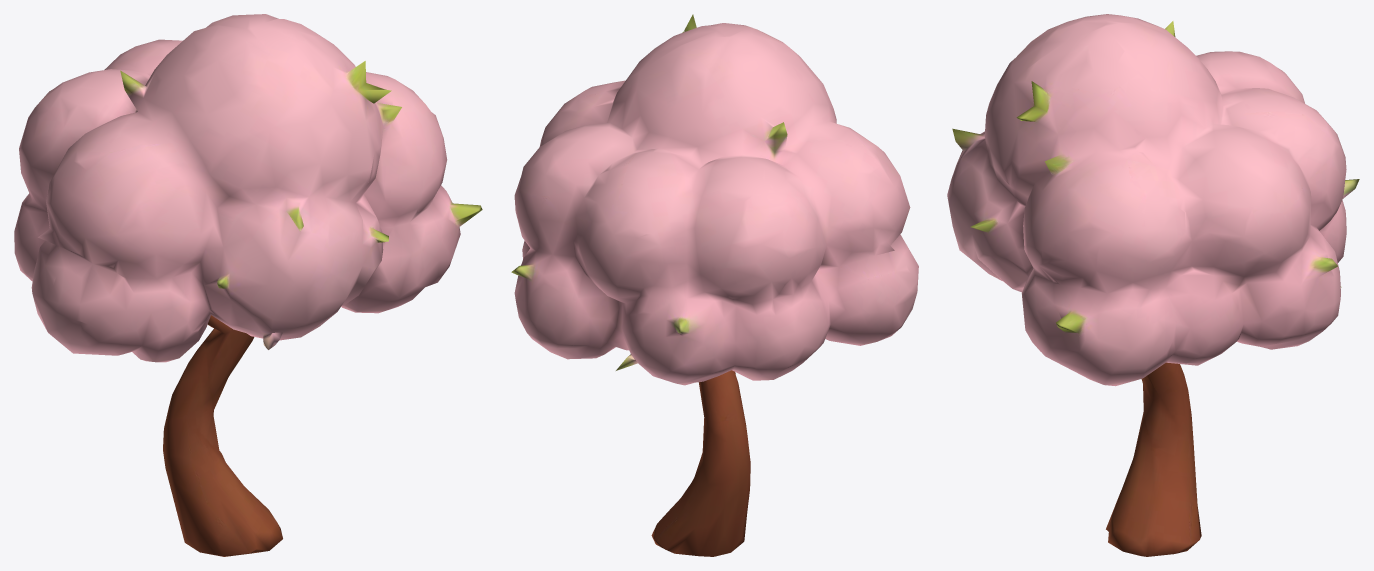
Rendered from arbre-cerisier.glb.
3 renders of one model, left to right at view 1: azimuth 30°, elevation 25°; view 2: azimuth 150°, elevation 25°; view 3: azimuth 270°, elevation 25°, orthographic. The views are drawn at different scales.
Visible parts, largest first — view 1: tripo_node_20f0f37b-6bb2-4671-8a04-affce4382c19; view 2: tripo_node_20f0f37b-6bb2-4671-8a04-affce4382c19; view 3: tripo_node_20f0f37b-6bb2-4671-8a04-affce4382c19.
Part boxes in pixels (x1,y1,x2,y2): tripo_node_20f0f37b-6bb2-4671-8a04-affce4382c19: (14,14,482,556); tripo_node_20f0f37b-6bb2-4671-8a04-affce4382c19: (511,14,918,556); tripo_node_20f0f37b-6bb2-4671-8a04-affce4382c19: (947,14,1359,556).
Size of the model in its own units: 0.7971 by 1 by 0.7204.
1 material, 1 textured.
